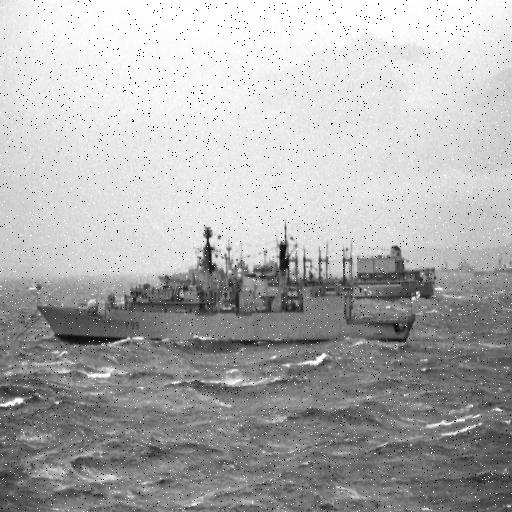Fragata: (33, 220, 418, 349)
